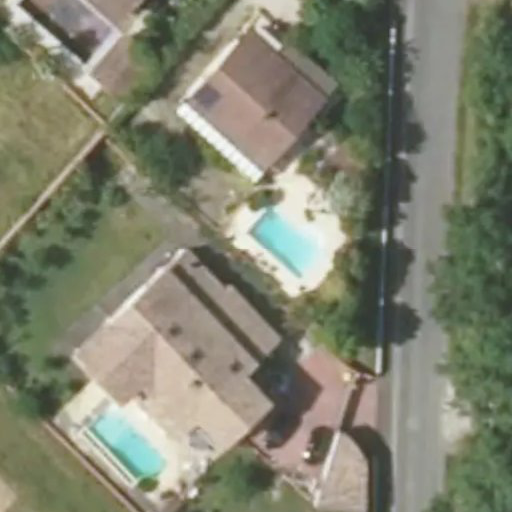pool: (215, 231, 305, 243)
